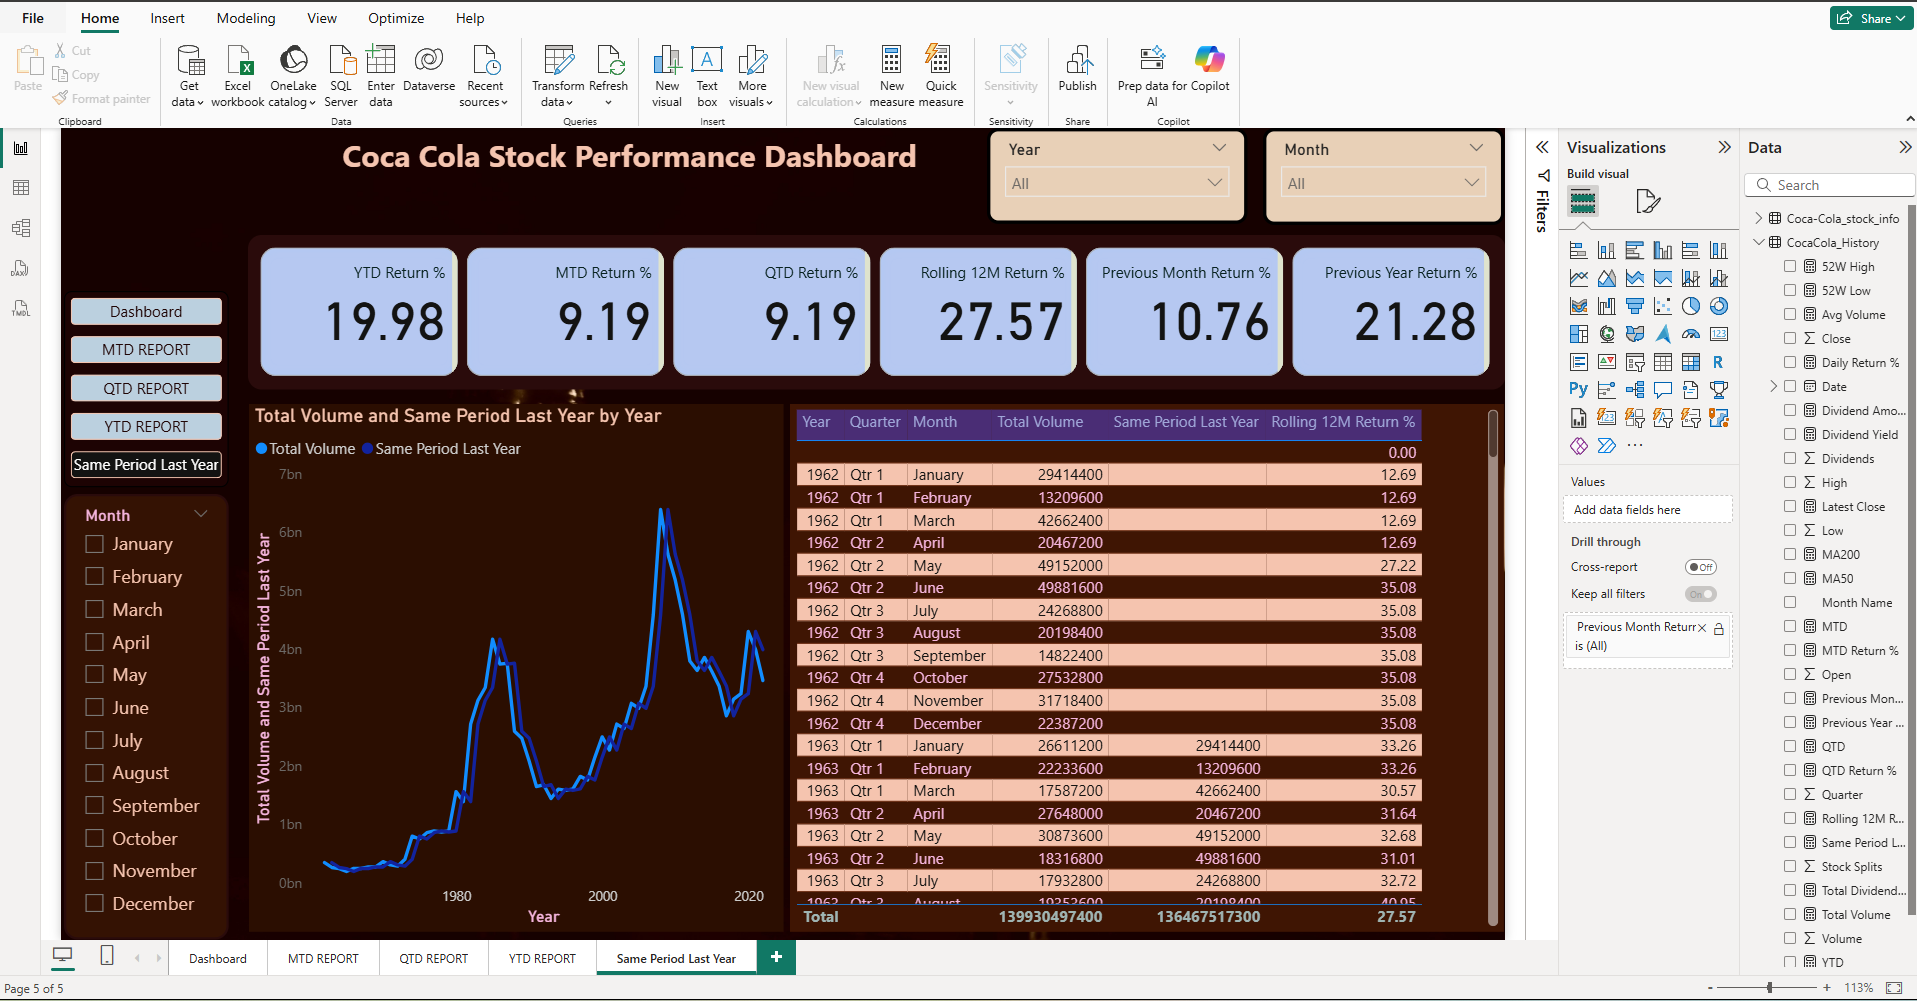

The page's visual inventory and layout, read from the dashboard file:
{"tool":"powerbi","page":{"name":"Same Period Last Year","canvas":[1280,720],"ordinal":4},"visuals":[{"type":"textbox","box":[213,1,583,61],"z":0},{"type":"slicer","fields":{"Values":["CocaCola_History.Date.Variation.Date Hierarchy.Month"]},"box":[1066,0,214,86],"z":1000},{"type":"slicer","fields":{"Values":["CocaCola_History.Date.Variation.Date Hierarchy.Month"]},"box":[2.7,324.5,146.3,395.5],"z":2000},{"type":"cardVisual","fields":{"Data":["CocaCola_History.YTD Return %","CocaCola_History.MTD Return %","CocaCola_History.QTD Return %","CocaCola_History.Rolling 12M Return %","CocaCola_History.Previous Month Return %","CocaCola_History.Previous Year Return %"]},"box":[165.8,94.9,1114.6,136.6],"z":3000},{"type":"lineChart","fields":{"Y":["CocaCola_History.Total Volume","CocaCola_History.Same Period Last Year"],"Category":["CocaCola_History.Date.Variation.Date Hierarchy.Year"]},"box":[166.3,245.1,473.7,467.8],"z":4000},{"type":"tableEx","fields":{"Values":["CocaCola_History.Date.Variation.Date Hierarchy.Year","CocaCola_History.Date.Variation.Date Hierarchy.Quarter","CocaCola_History.Date.Variation.Date Hierarchy.Month","CocaCola_History.Total Volume","CocaCola_History.Same Period Last Year","CocaCola_History.Rolling 12M Return %"]},"box":[646.8,245.1,633.2,467.8],"z":5000},{"type":"slicer","fields":{"Values":["CocaCola_History.Date.Variation.Date Hierarchy.Year"]},"box":[821.2,0,231,85],"z":6000},{"type":"pageNavigator","box":[2.7,144.5,146.3,173.8],"z":8000}]}

Visuals, with their boxes on the page's 1280x720 design canvas (x1, y1, x2, y2). These are canvas units, not pixel positions in the 1917x1001 screenshot, which may show the page scaled, cropped or inside an application window:
textbox: Rect(213, 1, 796, 62)
slicer - CocaCola_History.Date.Variation.Date Hierarchy.Month: Rect(1066, 0, 1280, 86)
slicer - CocaCola_History.Date.Variation.Date Hierarchy.Month: Rect(3, 324, 149, 720)
cardVisual - CocaCola_History.YTD Return % x CocaCola_History.MTD Return %: Rect(166, 95, 1280, 232)
lineChart - CocaCola_History.Total Volume x CocaCola_History.Same Period Last Year: Rect(166, 245, 640, 713)
tableEx - CocaCola_History.Date.Variation.Date Hierarchy.Year x CocaCola_History.Date.Variation.Date Hierarchy.Quarter: Rect(647, 245, 1280, 713)
slicer - CocaCola_History.Date.Variation.Date Hierarchy.Year: Rect(821, 0, 1052, 85)
pageNavigator: Rect(3, 144, 149, 318)
